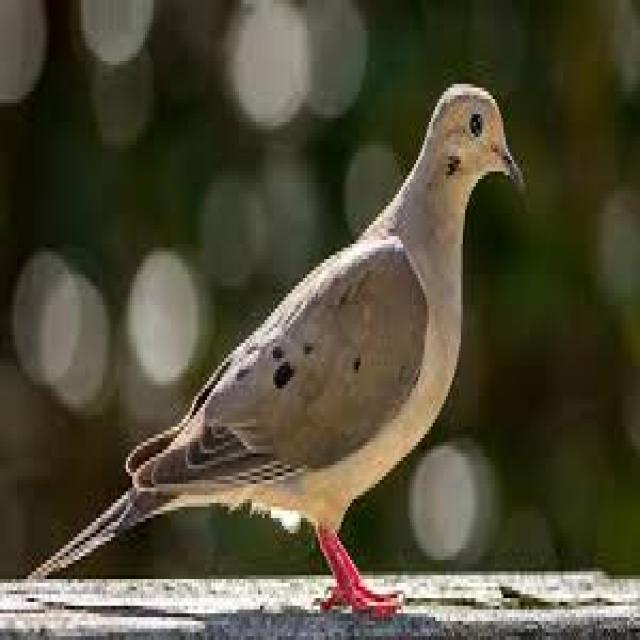bird: (26, 73, 528, 622)
